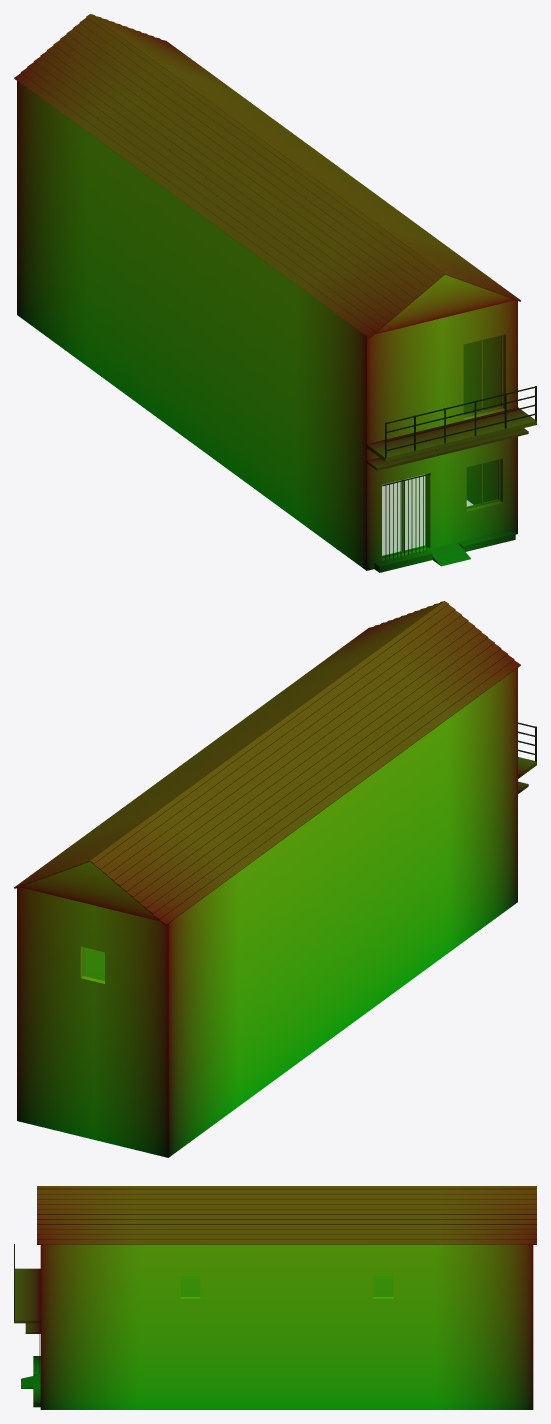
The model's file is nha_ong_5x20.glb.
The picture shows the model from 3 angles, top to bottom: view 1: azimuth 30°, elevation 25°; view 2: azimuth 150°, elevation 25°; view 3: azimuth 270°, elevation 25°; orthographic projection. The views are drawn at different scales.
Visible parts, largest first — view 1: nha_ong_5x20; view 2: nha_ong_5x20; view 3: nha_ong_5x20.
Boxes of the visible parts, x1,y1,x2,y2 form: nha_ong_5x20: [14, 14, 536, 572]; nha_ong_5x20: [14, 601, 536, 1157]; nha_ong_5x20: [14, 1186, 536, 1409].
Size of what is drawn, in the model's own units: 5.03 by 8.86 by 21.23.
